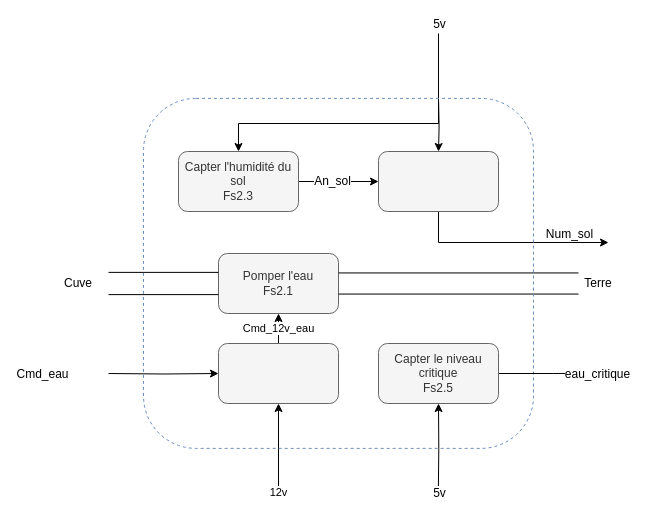
The diagram is 647 pixels wide and 519 high, and some of its shapes have lost their labels. Here are the shapes that lost their labels. From the top down, the centre of each, then its label:
At point (438, 181): "Convertir l'analogique en numérique Fs2.4".
At point (278, 373): "Actionneur Fs2.2".
